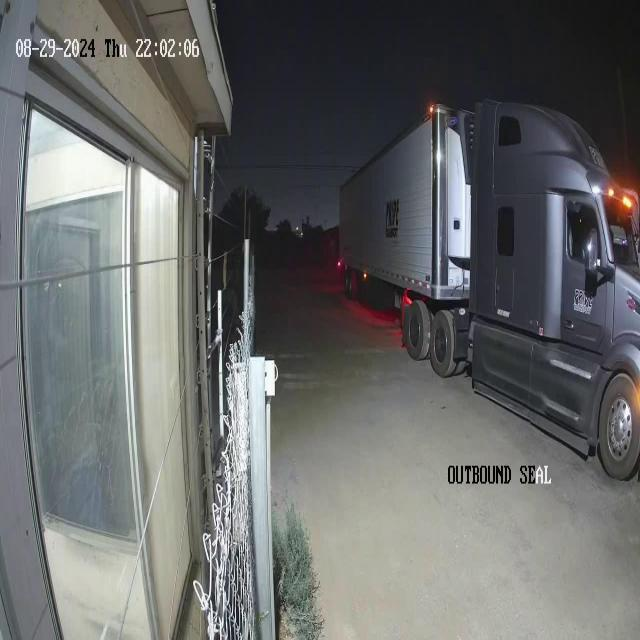CONTAINER: (337, 97, 469, 306)
